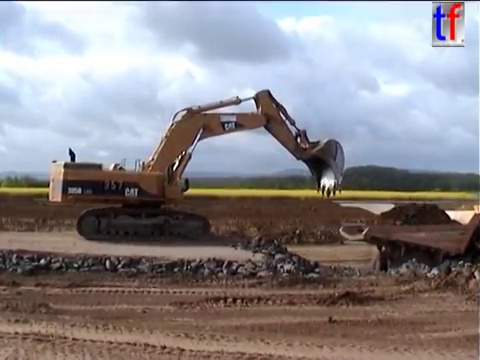excavator: (46, 87, 347, 244)
truck: (337, 202, 480, 289)
